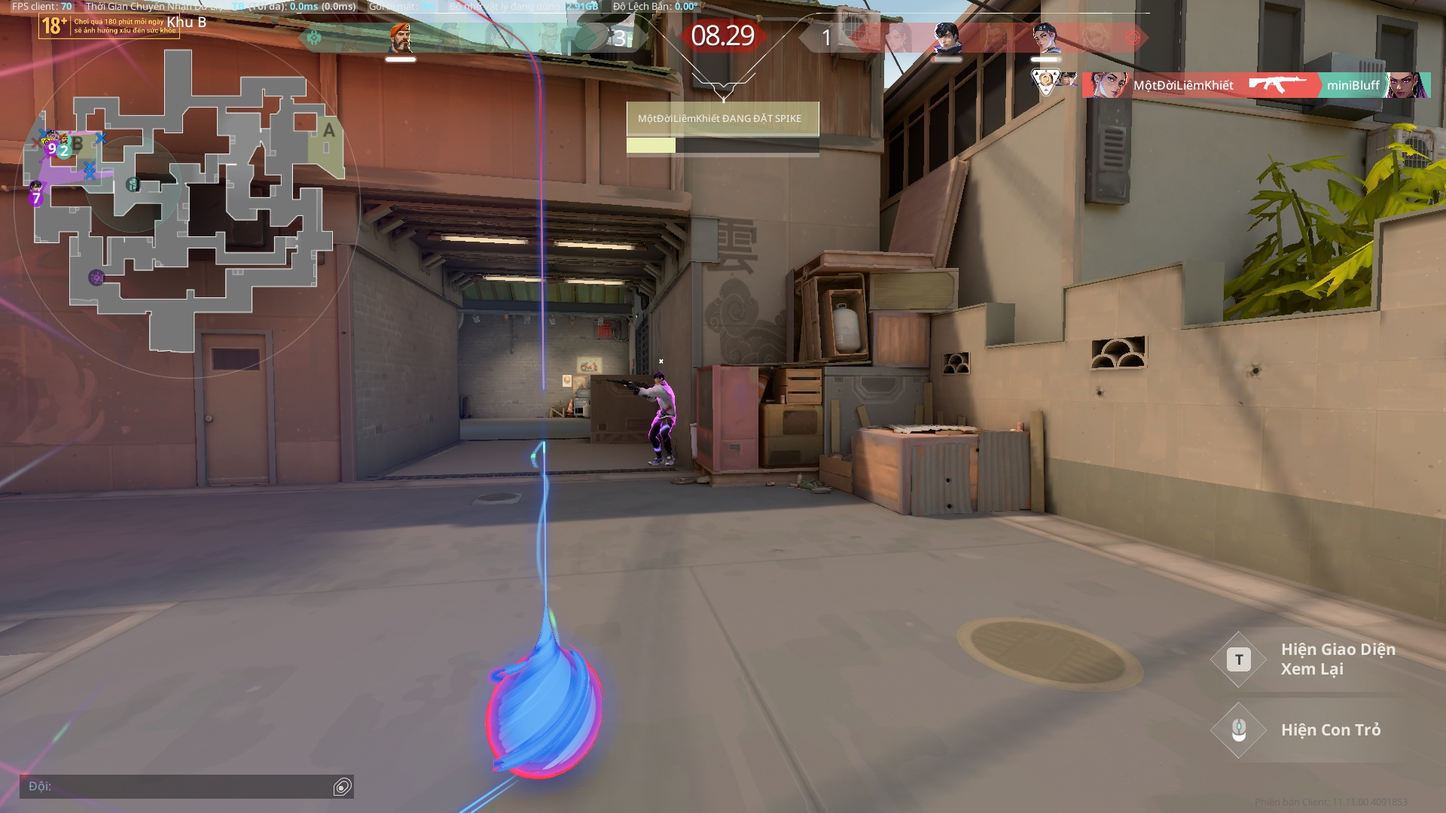body: (648, 382, 679, 418)
head: (652, 371, 664, 383)
